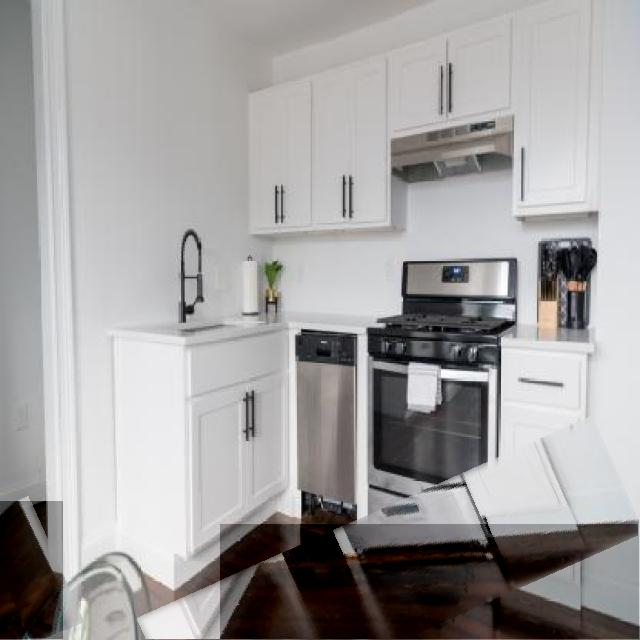floor: (221, 524, 639, 640), (0, 502, 63, 639)
